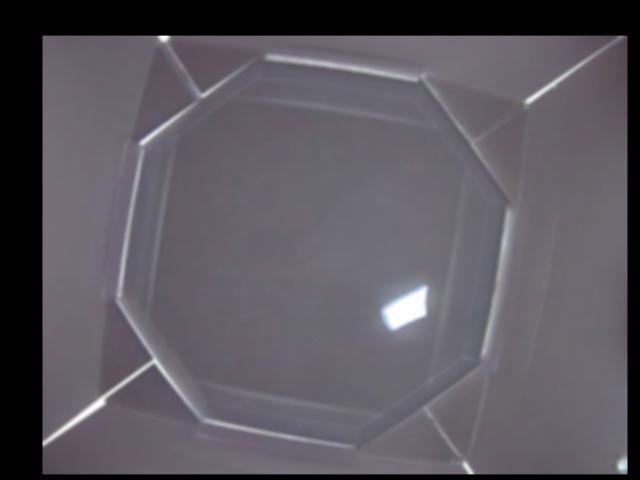China: (378, 279, 435, 330)
